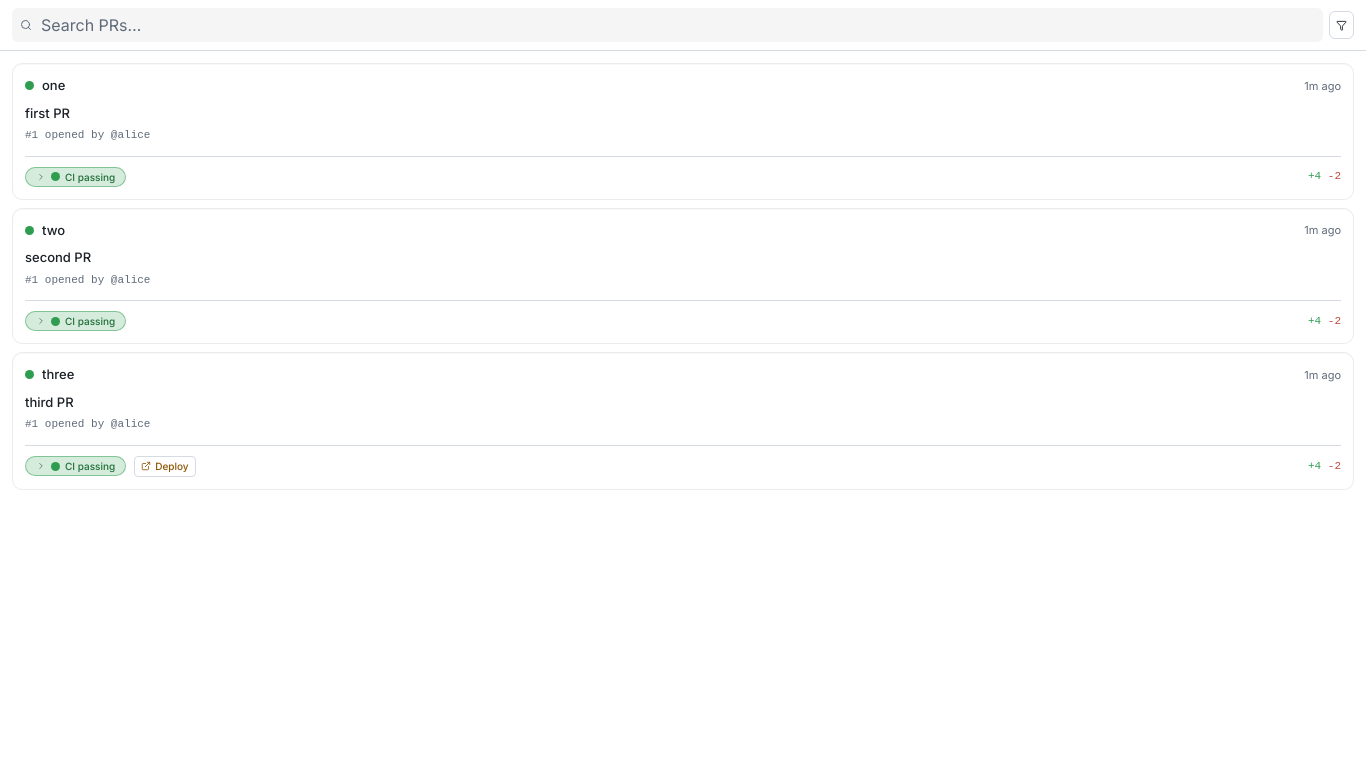
Scenario: ListView › keyboard navigation › clicking the backdrop closes the help overlay
Type keys "?"
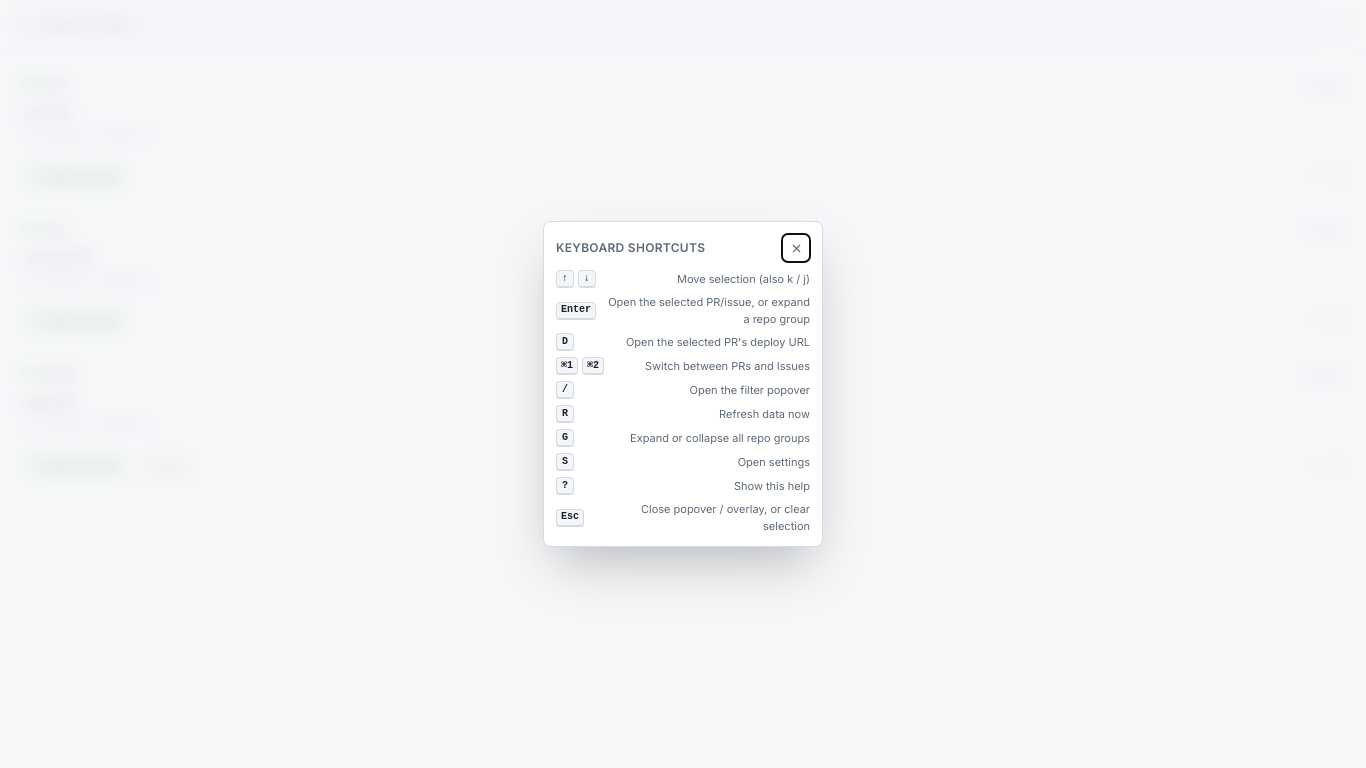
Click the element with test id "keybind-help-backdrop" at (82, 384), box [0,0,1365,767]
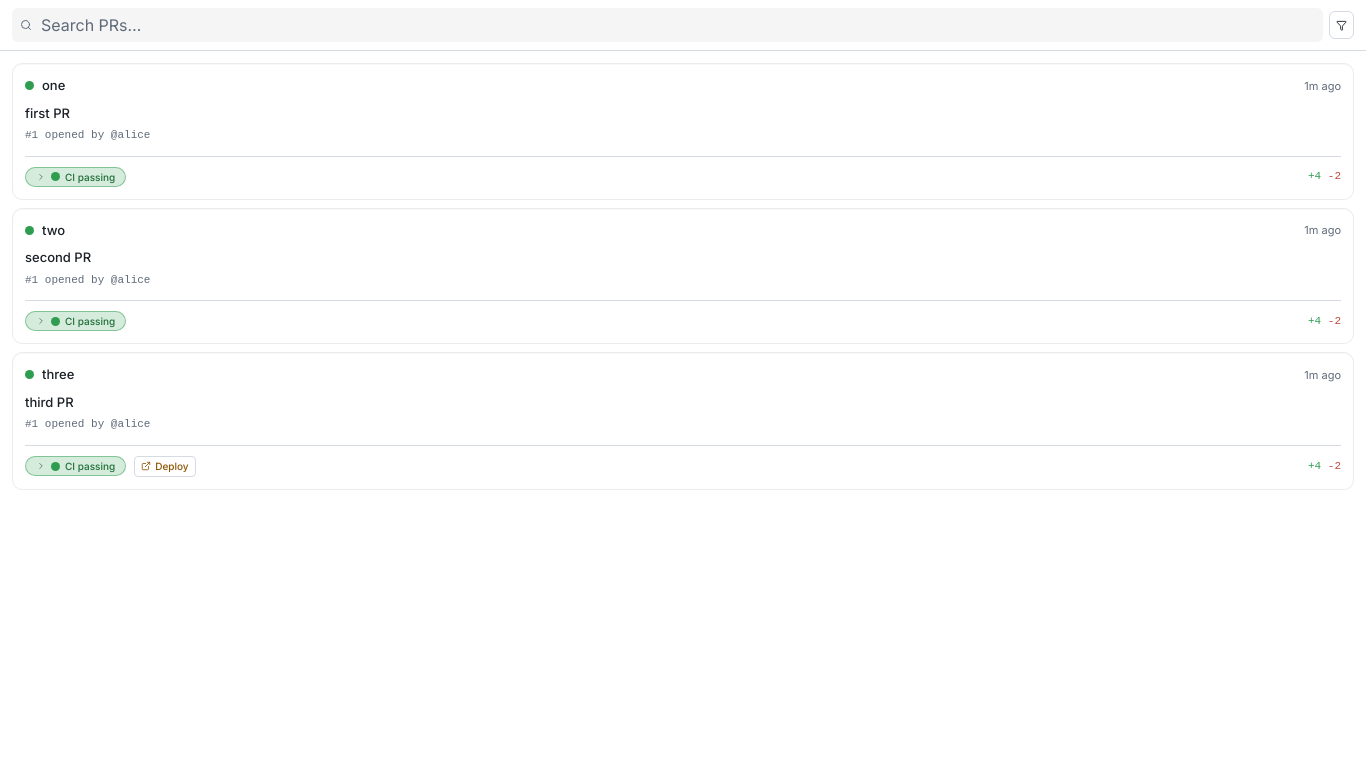
Now the dialog with test id "keybind-help" is gone
